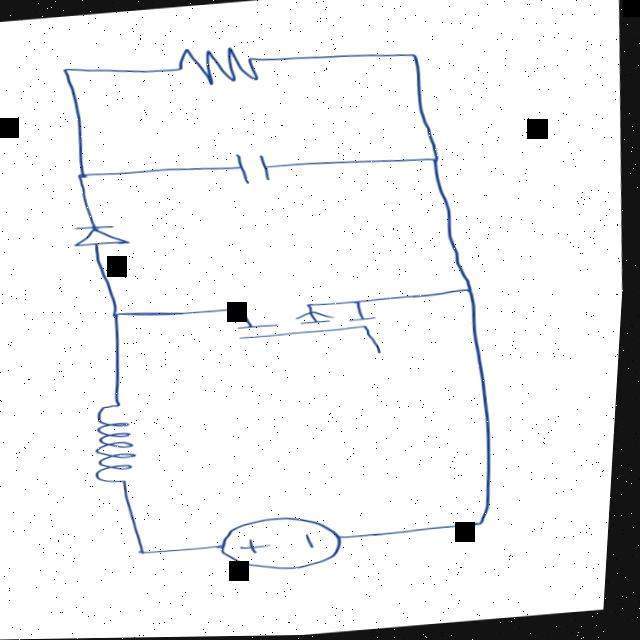capacitor: (210, 136, 297, 198)
diode: (59, 216, 155, 253)
inductor: (51, 381, 187, 509)
mosfet: (204, 282, 411, 380)
resistor: (132, 20, 309, 100)
source: (219, 500, 367, 580)
